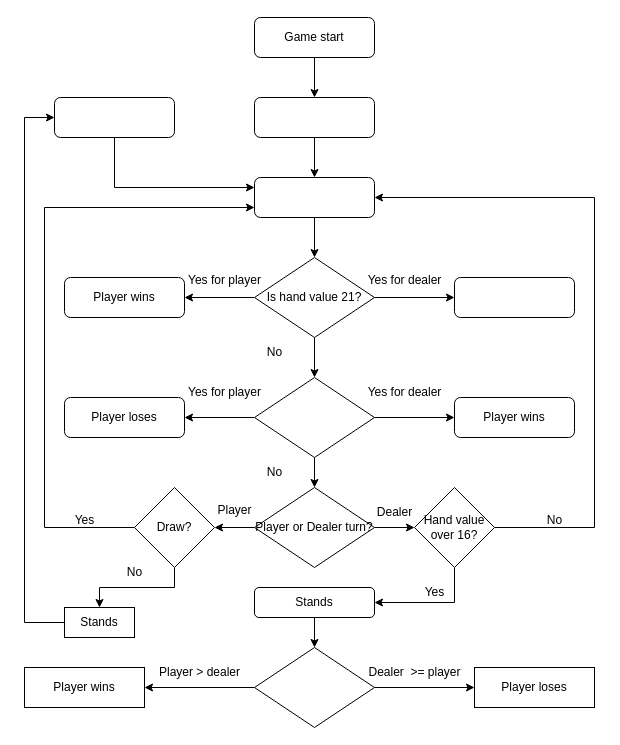
The diagram is 620 pixels wide and 745 high, and some of its shapes have lost their labels. Here are the shapes that lost their labels. From the top down, the box of each, then its label:
(54, 96, 174, 138): Dealers turn
(254, 96, 374, 138): Players turn
(254, 176, 374, 218): Draw card
(454, 276, 574, 318): Dealer wins
(254, 376, 374, 458): Is hand value over 21?
(254, 646, 374, 728): Compare hand values
